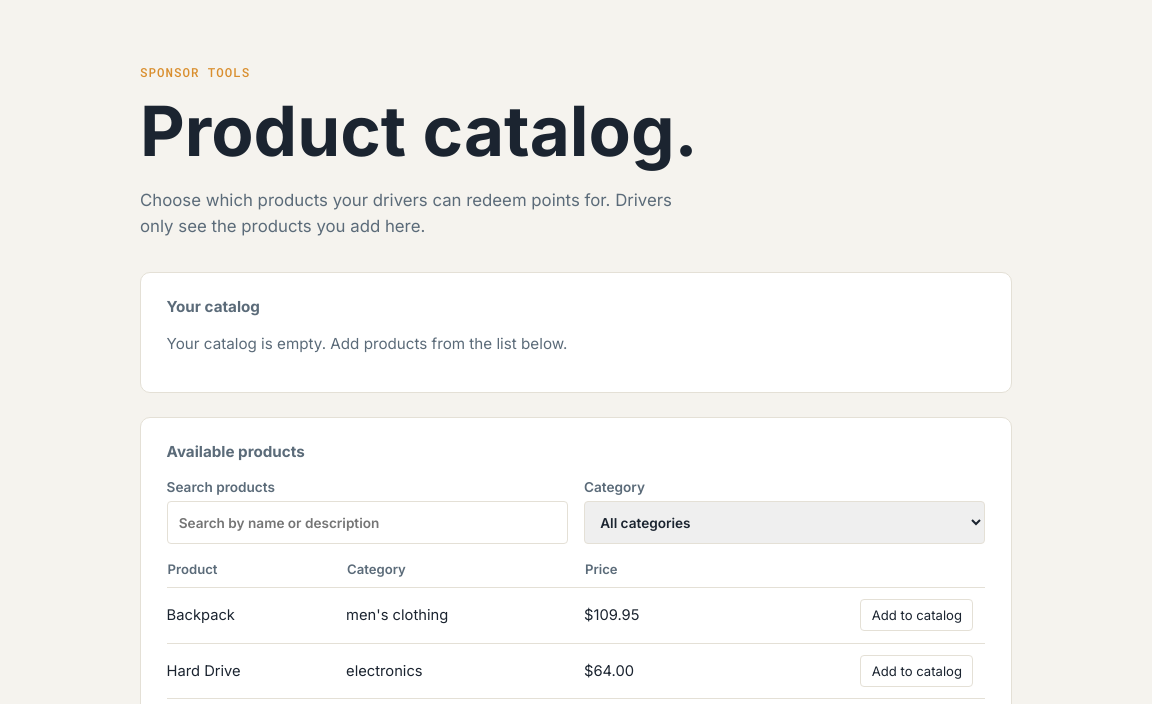
Test case: adds an available product to the sponsor catalog
expect the text "Your catalog is empty. Add products from the list below." is shown: met, box [167,334,567,353]
Click the button "Add to catalog" in the row of "Hard Drive" at (917, 671), box [860,655,973,687]
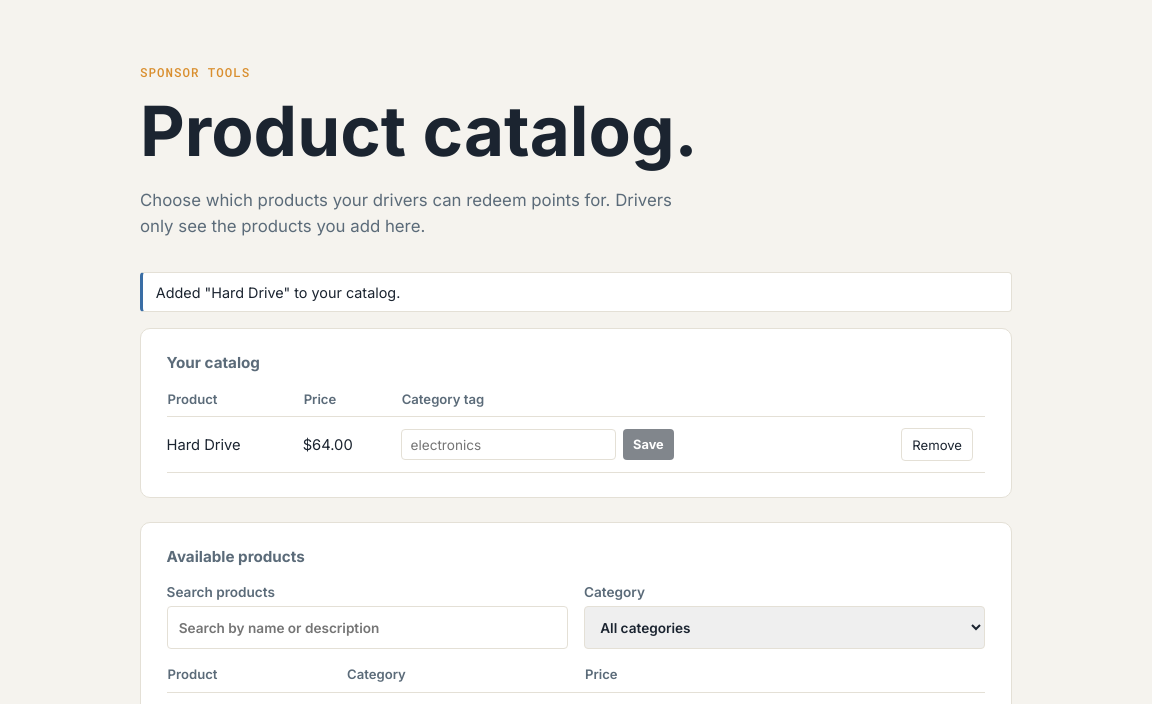
expect the text "Hard Drive" is shown: met, box [167,436,241,454]
expect the message reads "Added \"Hard Drive\" to your catalog.": met, box [156,284,400,301]
